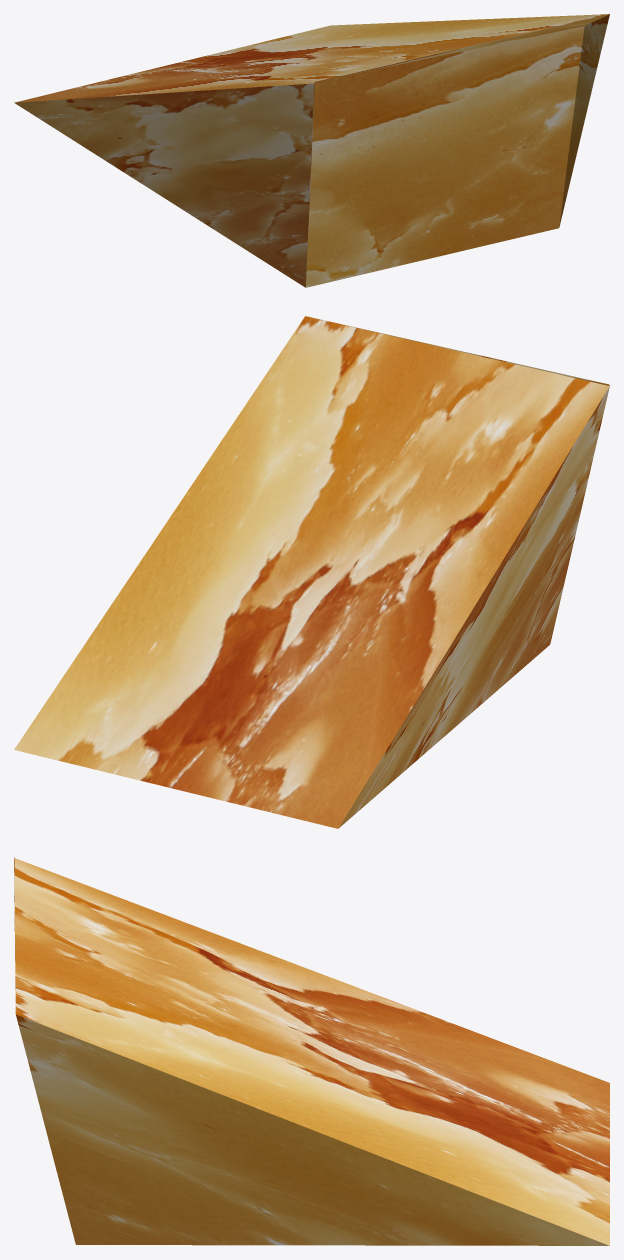
Rendered from kaas.gltf.
3 renders of one model, top to bottom at view 1: azimuth 30°, elevation 25°; view 2: azimuth 150°, elevation 25°; view 3: azimuth 270°, elevation 25°, orthographic. The views are drawn at different scales.
Parts seen in each view (by area): view 1: Cube; view 2: Cube; view 3: Cube.
Part boxes in pixels (x1,y1,x2,y2): Cube: [14, 14, 609, 287]; Cube: [14, 316, 609, 828]; Cube: [14, 857, 609, 1245].
Size of the model in its own units: 0.7199 by 0.5125 by 1.11.
1 material, 1 textured.
